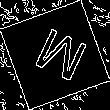M_SW: (24, 23, 86, 87)
